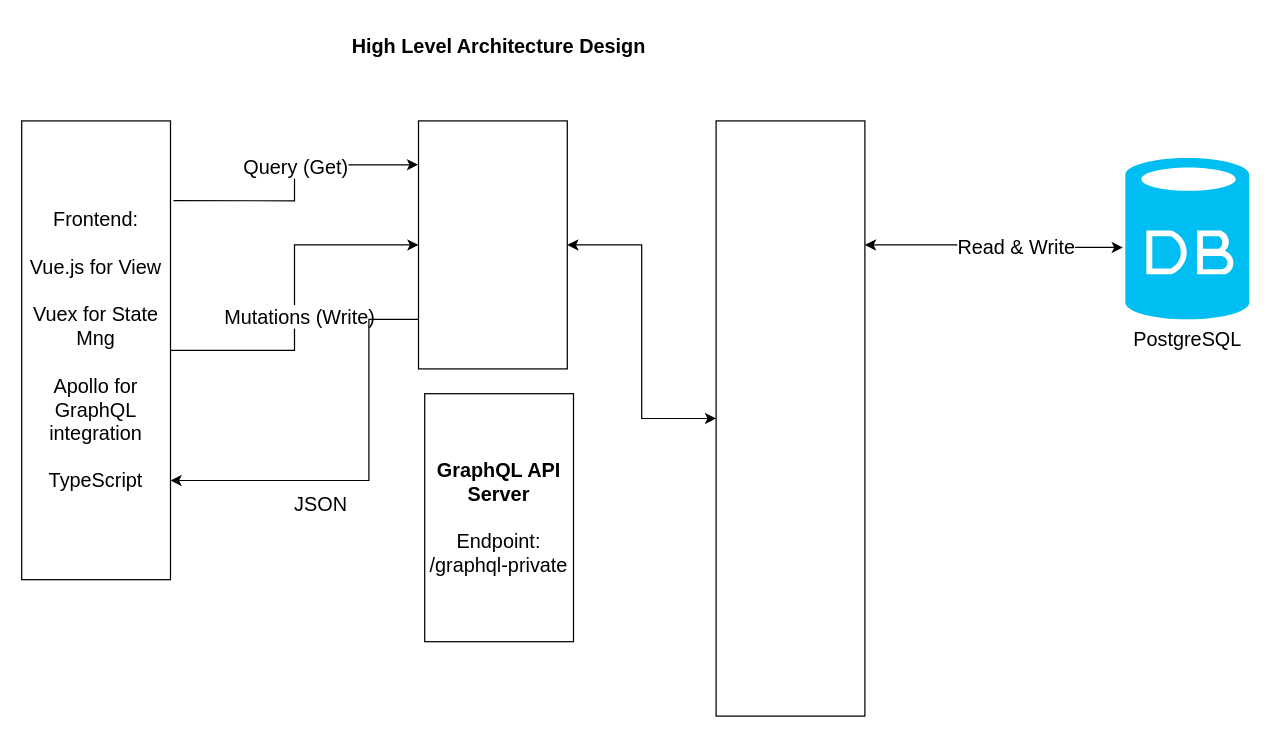
This 1271x738 diagram has some shape labels left out. Each missing label, with the box of its shape:
Backend (DJango Models) Logic AuthN/AuthZ: (715, 120, 865, 716)
GraphQL API Server Endpoint: /graphql: (417, 120, 567, 369)
